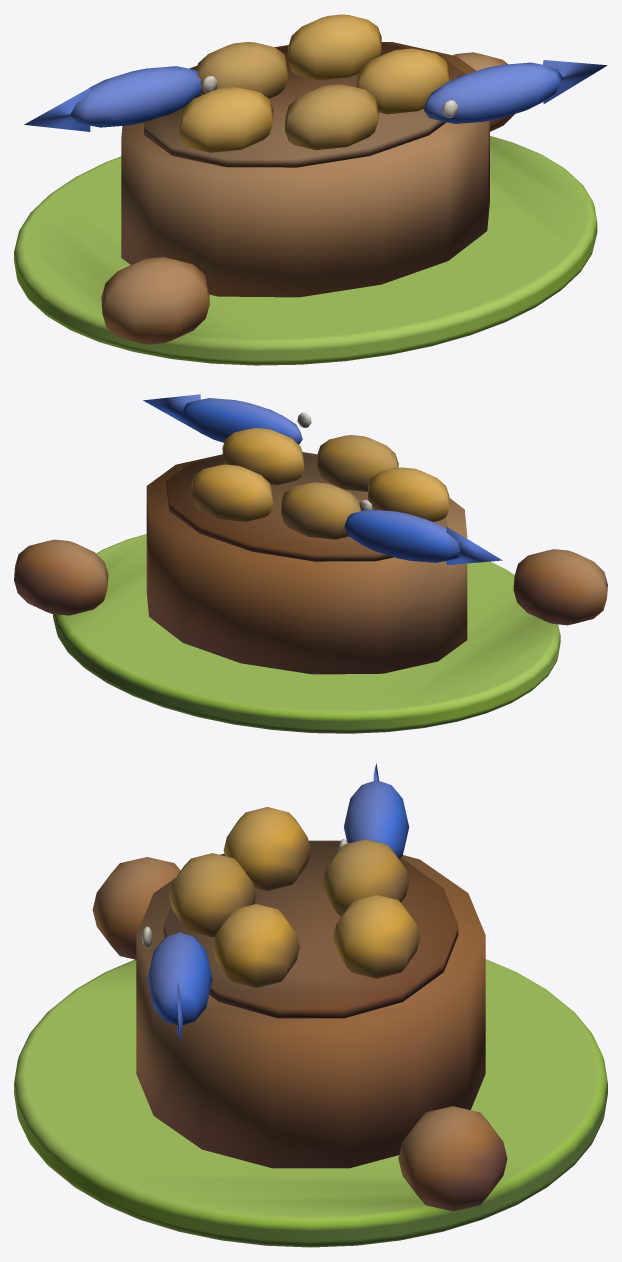
File: loaves.glb
3 renders of one model, top to bottom at view 1: azimuth 30°, elevation 25°; view 2: azimuth 150°, elevation 25°; view 3: azimuth 270°, elevation 25°, orthographic. The views are drawn at different scales.
Visible parts, largest first — view 1: loaves; view 2: loaves; view 3: loaves.
Boxes of the visible parts, x1,y1,x2,y2 form: loaves: (14,14,607,365); loaves: (14,394,607,733); loaves: (14,763,607,1247).
Size of the model in its own units: 6.7 by 2.35 by 5.44.
